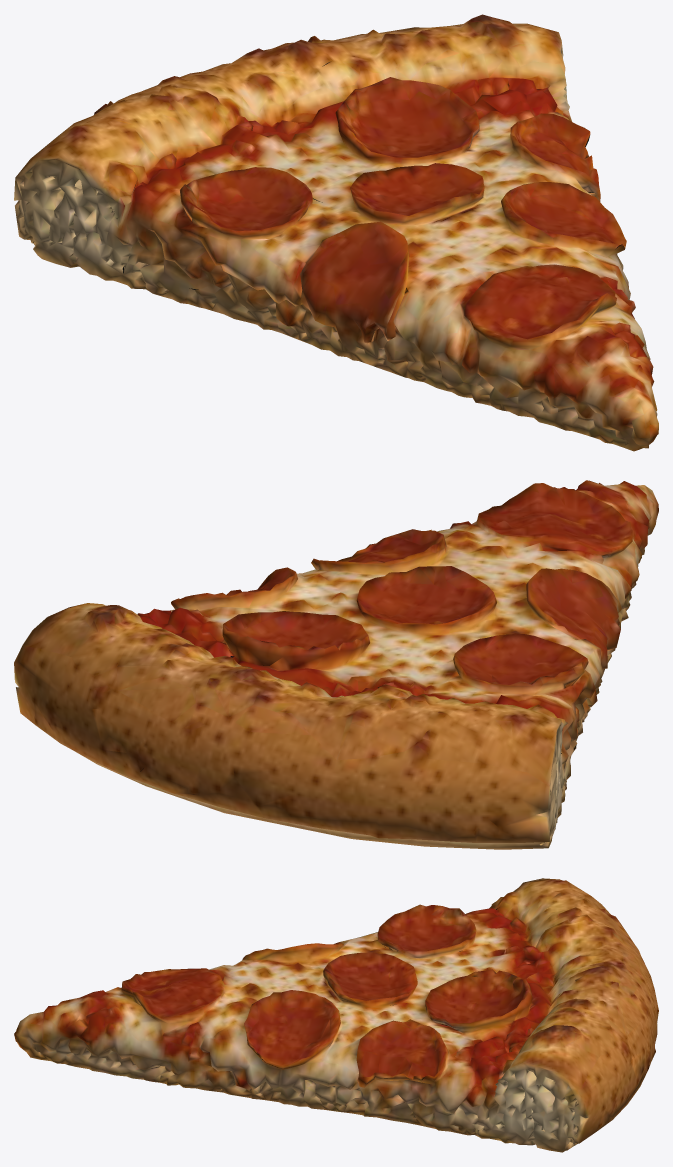
The model's file is food-pizza-phone.glb.
The picture shows the model from 3 angles, top to bottom: view 1: azimuth 30°, elevation 25°; view 2: azimuth 150°, elevation 25°; view 3: azimuth 270°, elevation 25°; orthographic projection. The views are drawn at different scales.
Parts seen in each view (by area): view 1: Model; view 2: Model; view 3: Model.
Part boxes in pixels (left/top/right/bottom): Model: left=14, top=14, right=658, bottom=451; Model: left=14, top=480, right=658, bottom=849; Model: left=14, top=878, right=658, bottom=1152.
Size of the model in its own units: 1.41 by 0.3291 by 1.9.
Materials: 1 (1 with a texture image).
